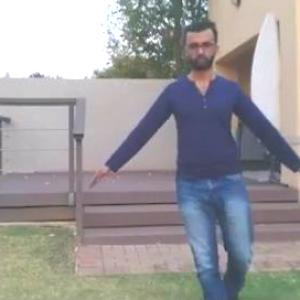land: (116, 26, 299, 296)
